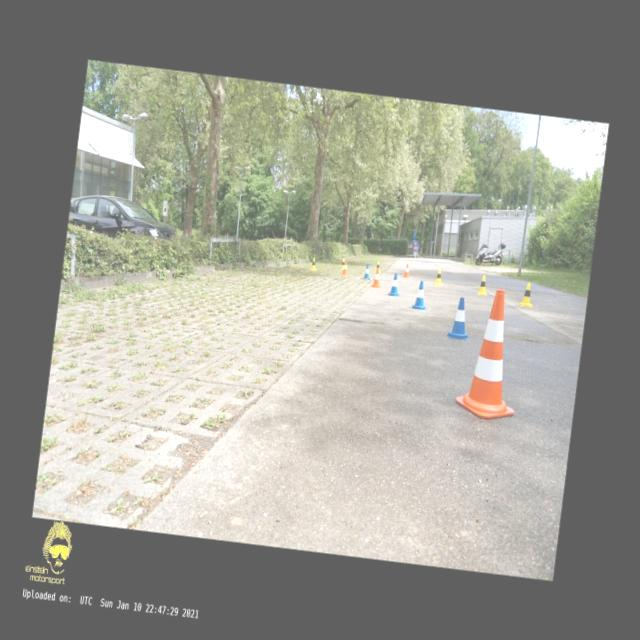blue_cone: (446, 296, 473, 340), (411, 280, 428, 310), (388, 272, 401, 296), (362, 264, 371, 280)
large_orange_cone: (452, 286, 528, 422)
orange_cone: (370, 267, 382, 287), (402, 263, 411, 277), (341, 260, 349, 274)
yellow_cone: (518, 280, 534, 308), (476, 274, 489, 296), (433, 267, 444, 285), (310, 257, 318, 271), (374, 260, 381, 272), (339, 257, 345, 269)
